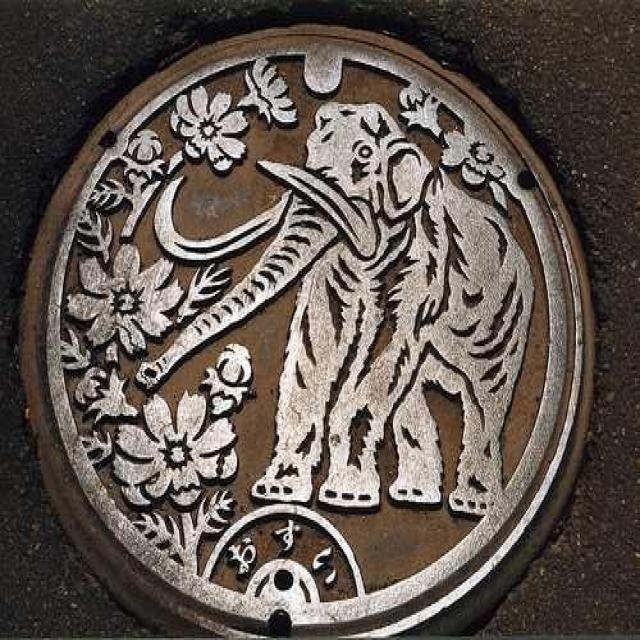manhole: (21, 26, 593, 635)
